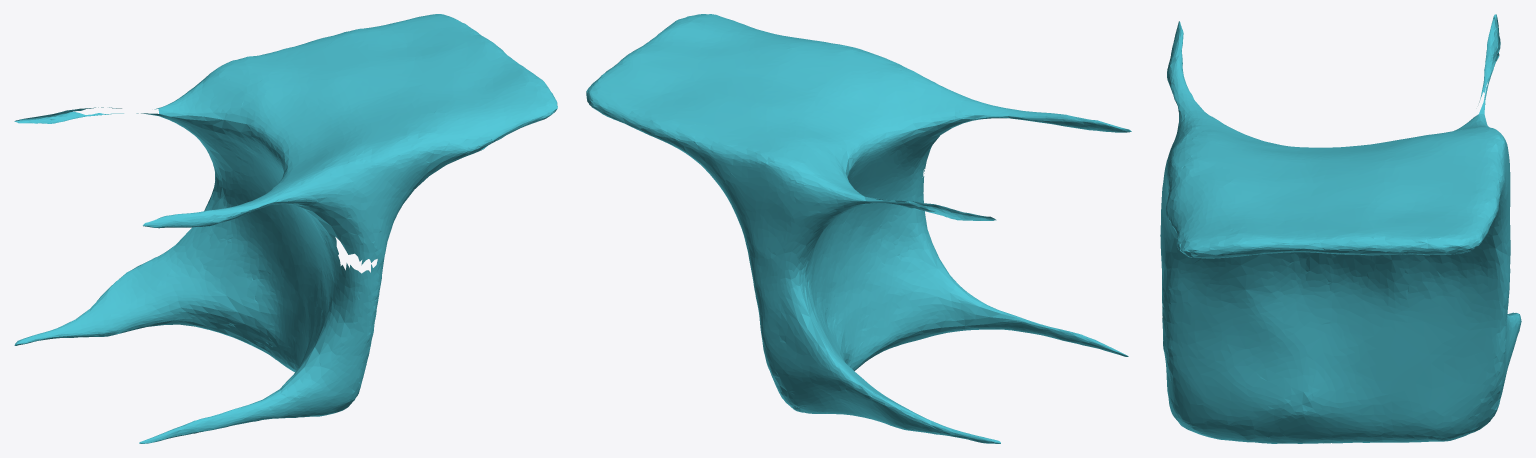
3 views of the same model, side by side, from view 1: azimuth 30°, elevation 25°; view 2: azimuth 150°, elevation 25°; view 3: azimuth 270°, elevation 25° (orthographic). The views are drawn at different scales.
Visible parts, largest first — view 1: Renderer Node; view 2: Renderer Node; view 3: Renderer Node.
Part boxes in pixels (x1,y1,x2,y2): Renderer Node: [14, 14, 557, 443]; Renderer Node: [586, 14, 1131, 443]; Renderer Node: [1160, 14, 1521, 443].
Size of the model in its own units: 0.6766 by 0.4108 by 0.4089.
Materials: 1 (1 with a texture image).
